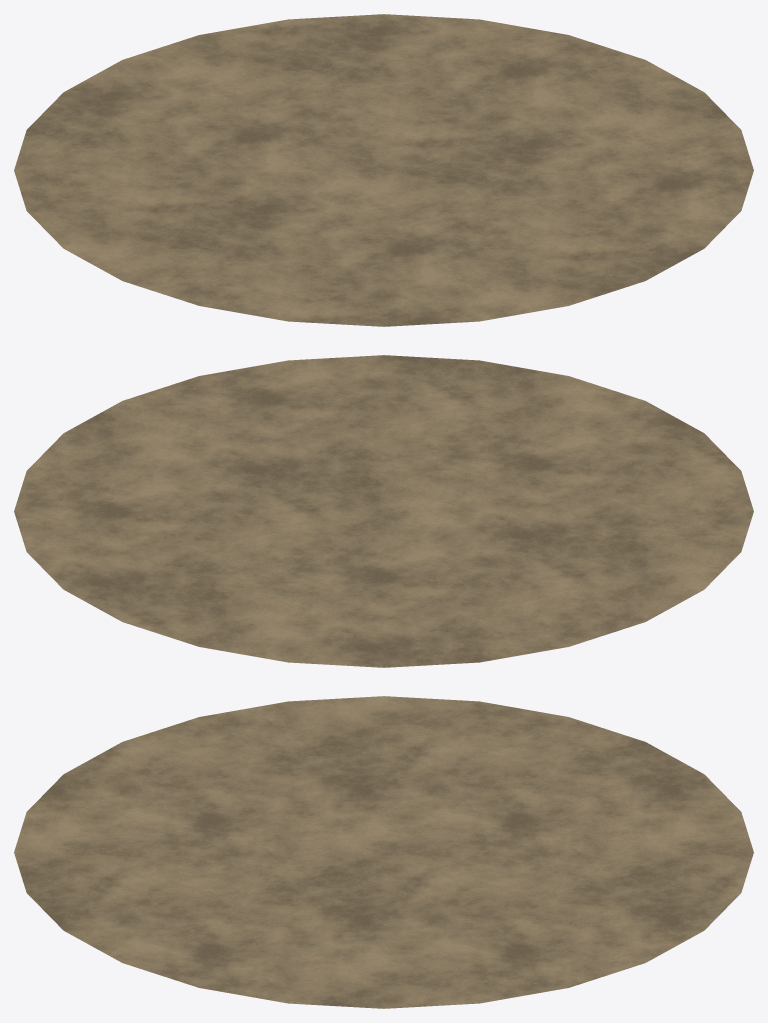
The model's file is INT-J-005.obj.
3 views of the same model, one above another, from view 1: azimuth 30°, elevation 25°; view 2: azimuth 150°, elevation 25°; view 3: azimuth 270°, elevation 25° (orthographic).
Visible parts, largest first — view 1: INT-J-005; view 2: INT-J-005; view 3: INT-J-005.
Boxes of the visible parts, x1,y1,x2,y2 form: INT-J-005: (14, 14, 753, 326); INT-J-005: (14, 355, 753, 667); INT-J-005: (14, 696, 753, 1008).
Bounding box in the file's own units: 6 × 0 × 6.
1 material, 1 textured.
